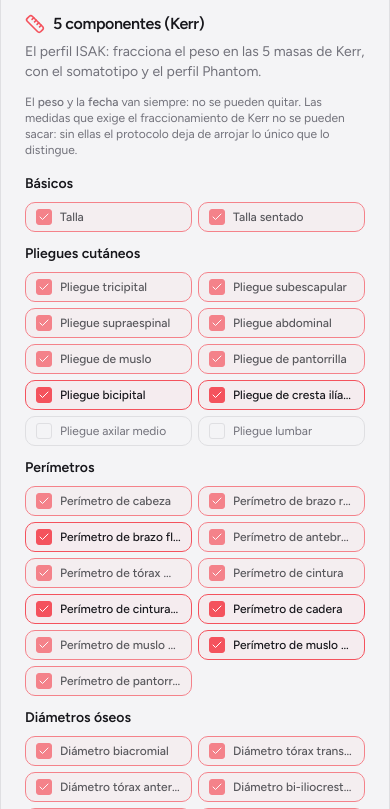
Scenario: FormularioProtocolosMedicion — 5 componentes › al sacar la cresta ilíaca avisa qué ecuación deja de calcularse
(page scrolled)
Click the switch labelled "Pliegue de cresta ilíaca": (282, 395) [198, 380, 365, 410]
(page scrolled)
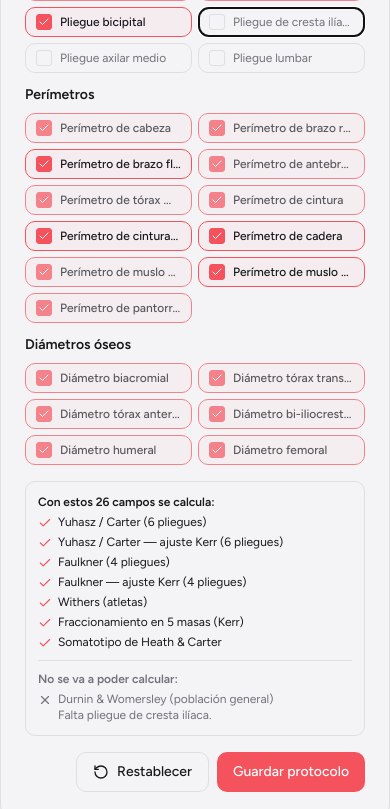
Result: the list item "Durnin" shows "Falta pliegue de cresta ilíaca" at [38, 692, 273, 722]
